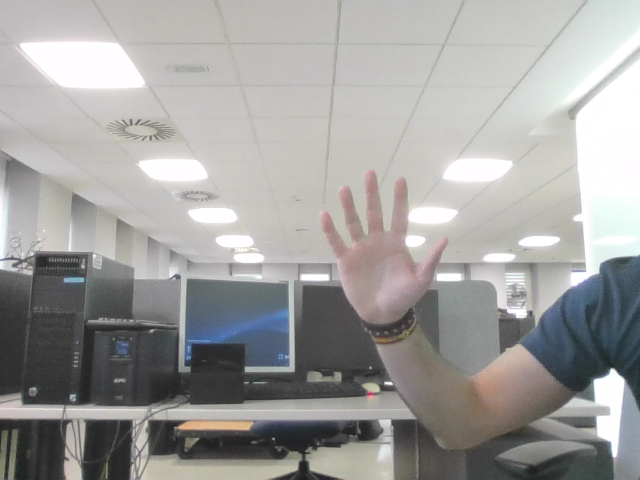Mano Abierta: (331, 182, 435, 297)
